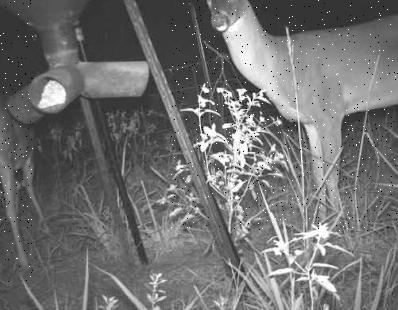Deer: (171, 0, 398, 231), (0, 0, 33, 282)
